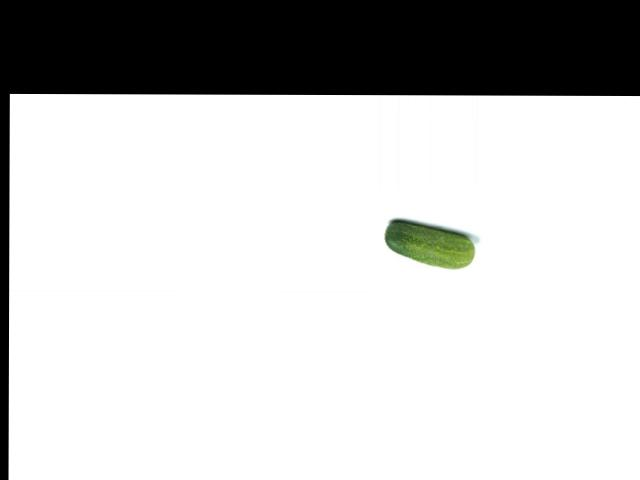cucumber: (384, 220, 474, 268)
